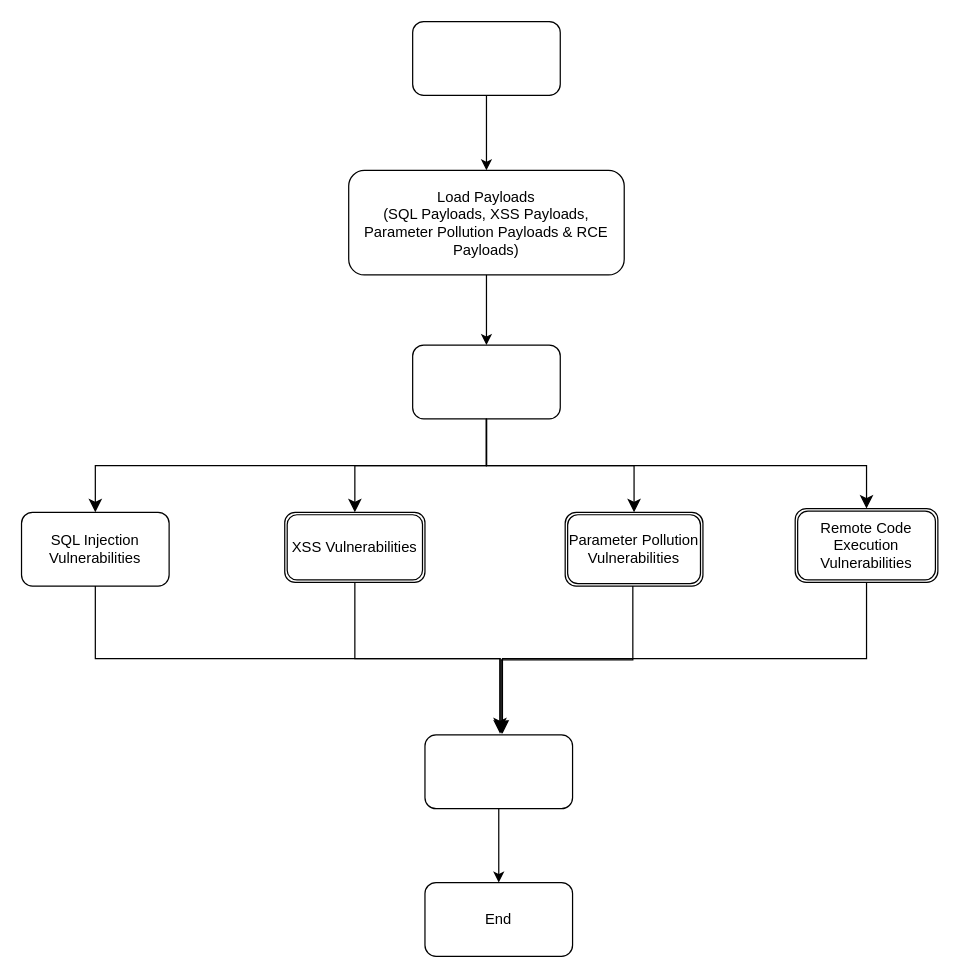
This 959x978 diagram has some shape labels left out. The shapes that lost their labels are listed below. From the top down, each one's centre as x and y in pixels, then its label:
At [485,57]: "Start".
At [485,381]: "Enter a Valid URL & Run Fuzzing".
At [498,771]: "Result Updation".
